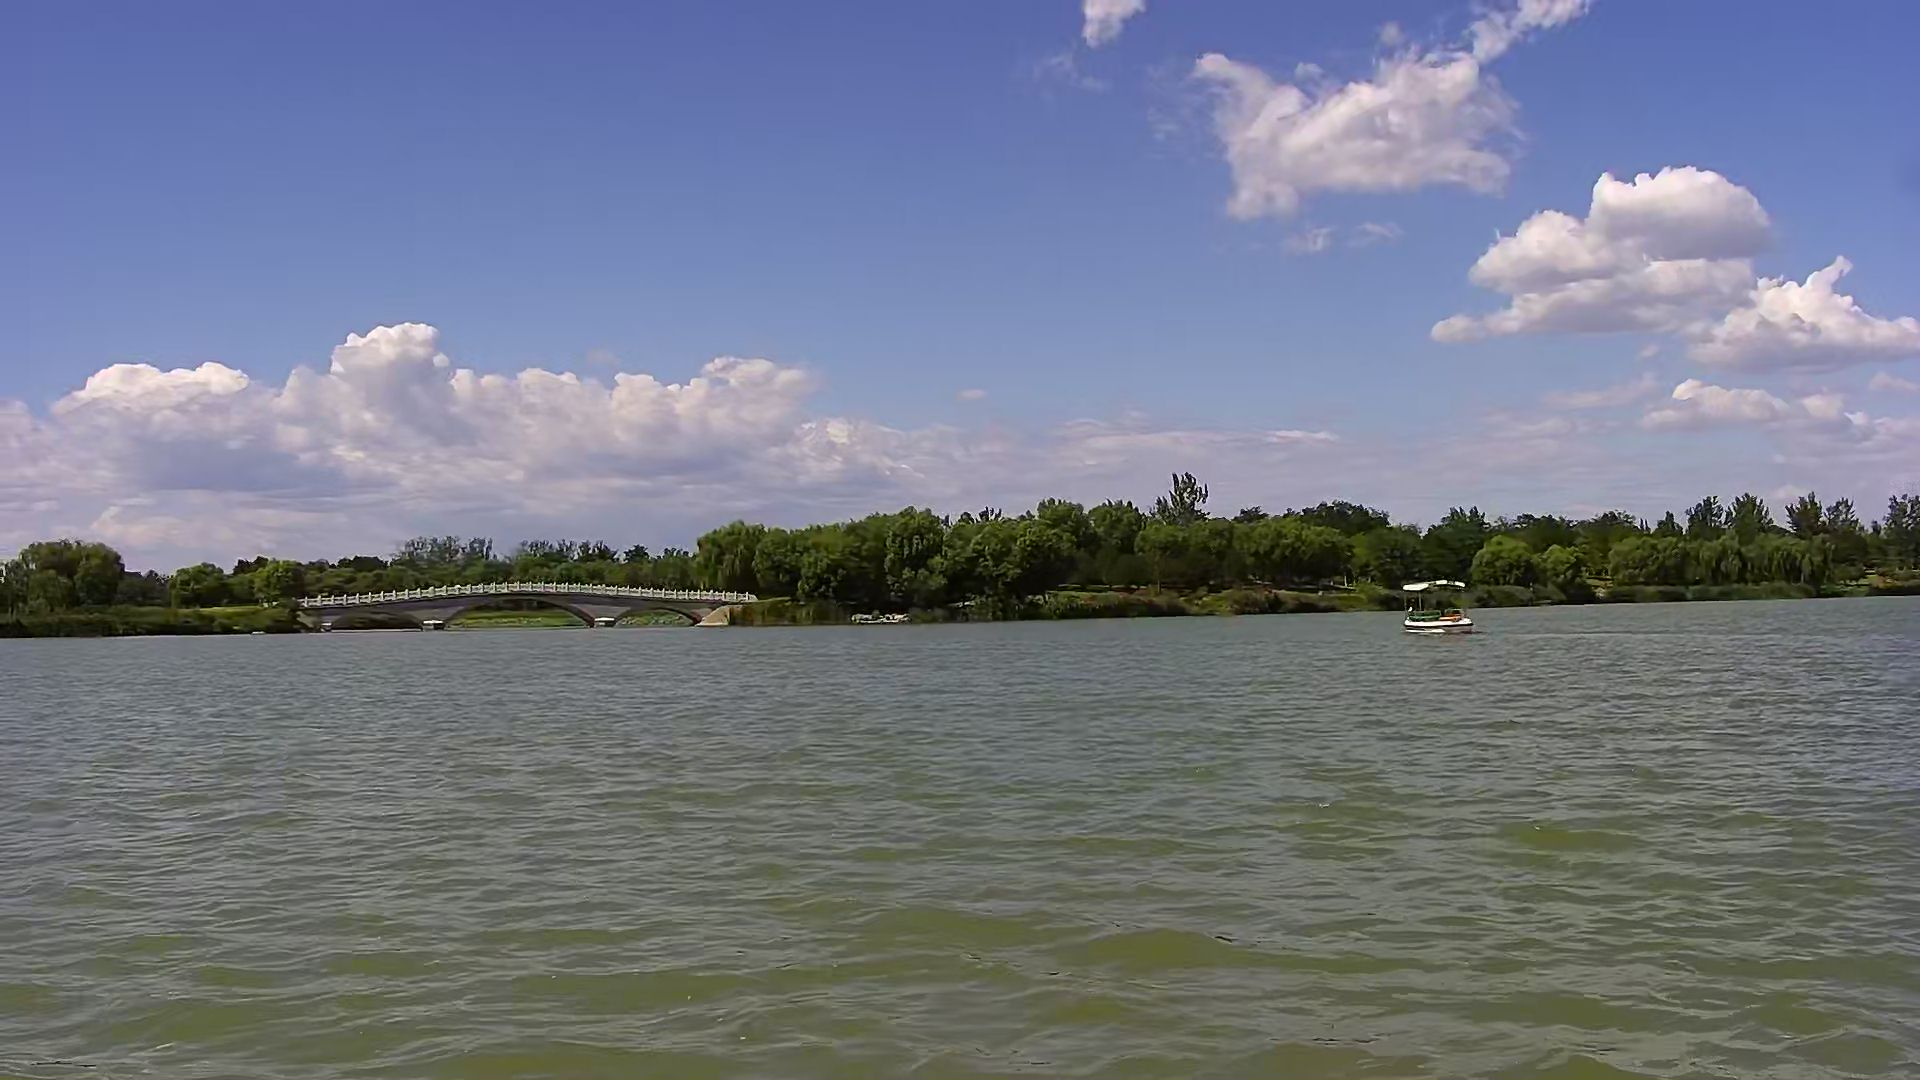boat: (1400, 572, 1478, 647)
bridge: (310, 579, 760, 636)
